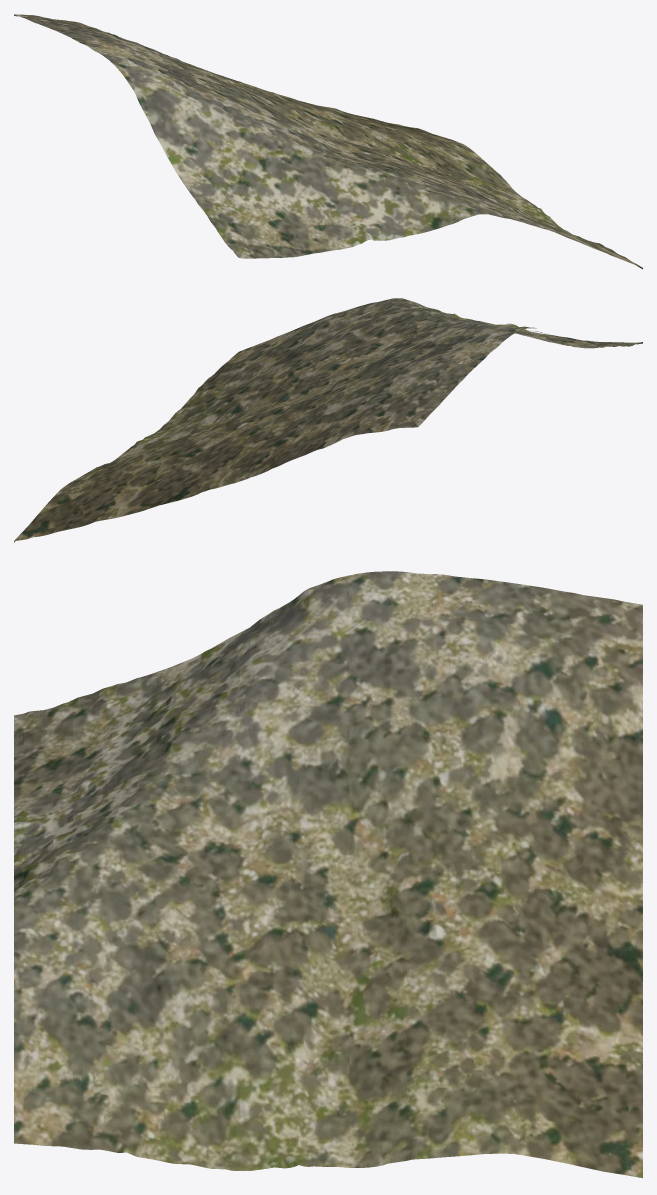
3 views of the same model, one above another, from view 1: azimuth 30°, elevation 25°; view 2: azimuth 150°, elevation 25°; view 3: azimuth 270°, elevation 25° (orthographic). The views are drawn at different scales.
Size of the model in its own units: 250 by 141 by 241.
1 material, 1 textured.
